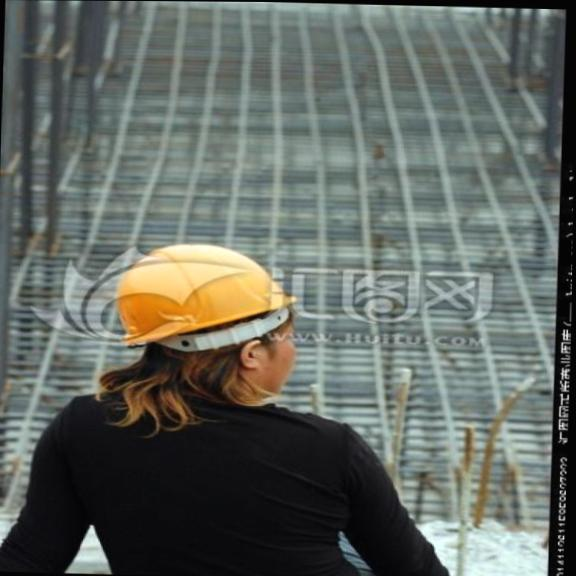no_safety_vest: (1, 383, 467, 576)
